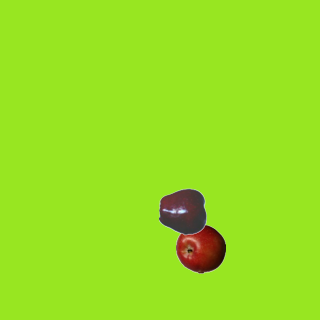Apple Braeburn: (175, 223, 225, 273)
Apple Red Delicious: (158, 186, 208, 236)
